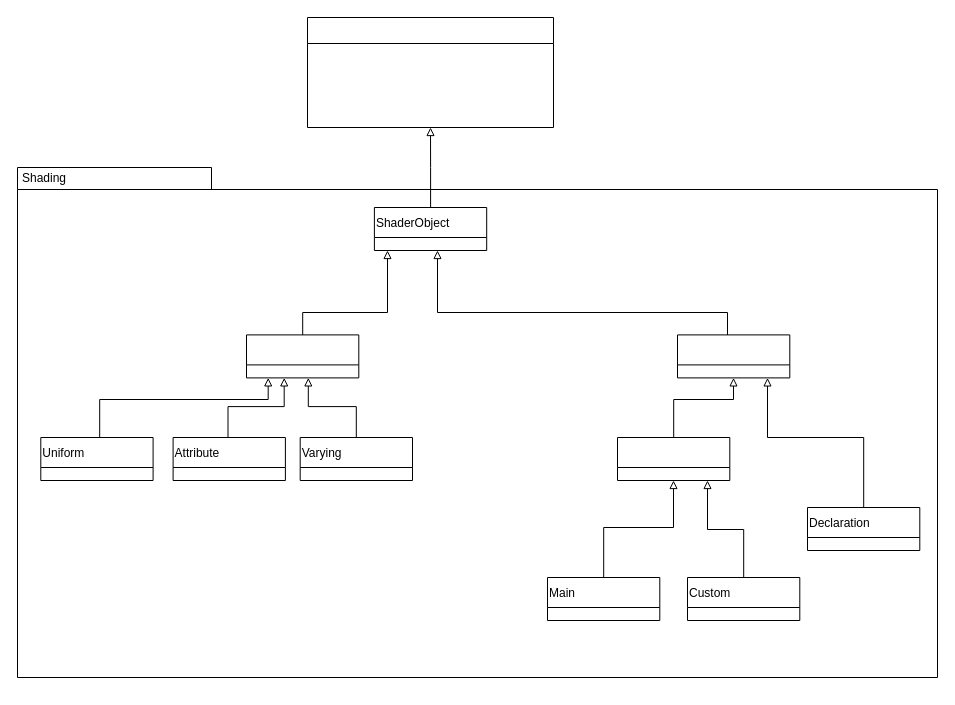
Image size: 955x705. Some labels were removed from this diagram. The shapes that lost their labels are listed below. From the top down, each one's centre as x and y in pixels, then its label:
At [430,72]: "Plot3DObject".
At [302,356]: "ShaderItem".
At [733,356]: "ShaderPart".
At [673,458]: "Function".
